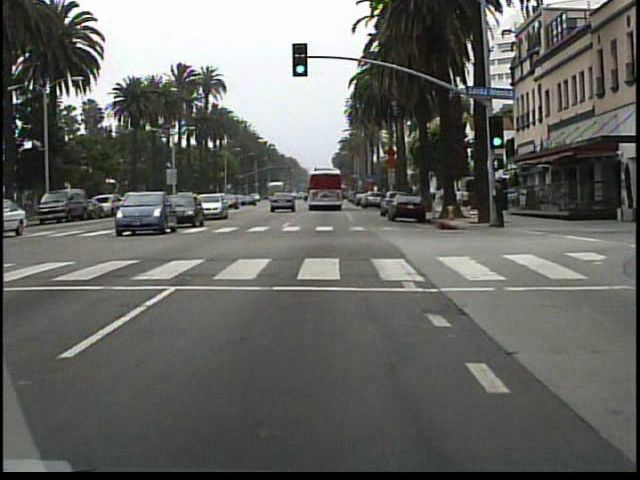person: (492, 177, 510, 231)
